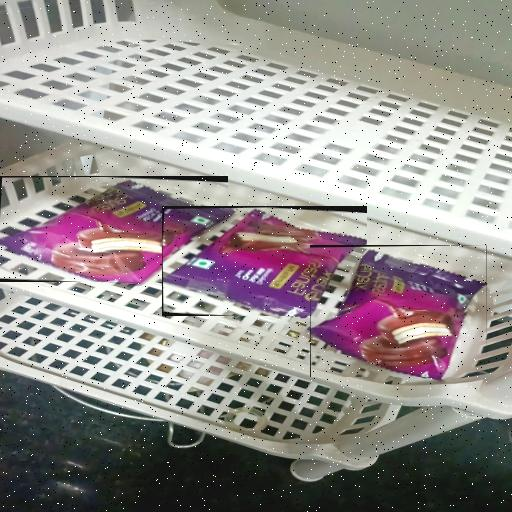Choco Pie: (0, 176, 228, 282), (310, 245, 487, 377), (162, 206, 367, 316)
